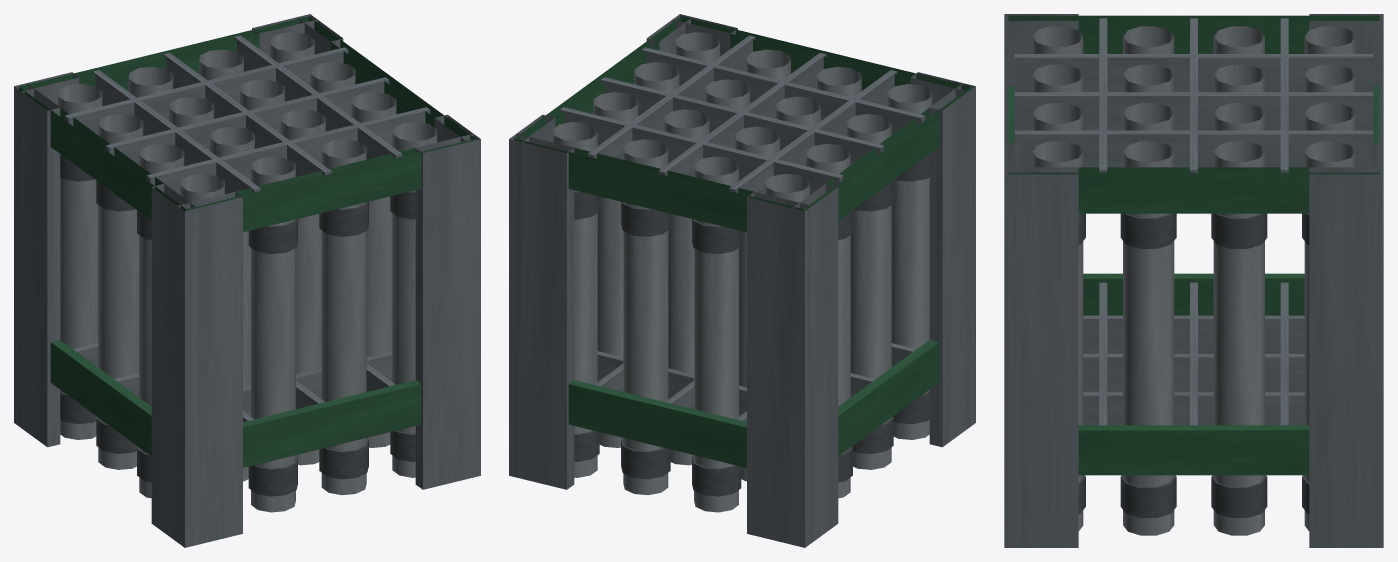
The model's file is tvs_loaded_middle.obj.
3 views of the same model, side by side, from view 1: azimuth 30°, elevation 25°; view 2: azimuth 150°, elevation 25°; view 3: azimuth 270°, elevation 25° (orthographic). The views are drawn at different scales.
Bounding box in the file's own units: 0.92 × 1 × 0.92.
